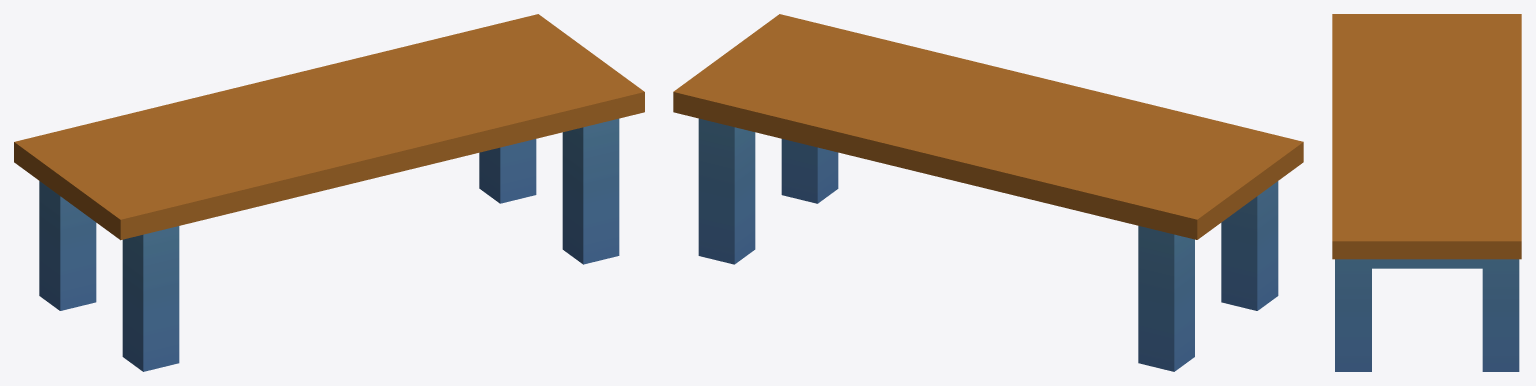
Rendered from Bench_1_B_8.fbx.
The picture shows the model from 3 angles, left to right: view 1: azimuth 30°, elevation 25°; view 2: azimuth 150°, elevation 25°; view 3: azimuth 270°, elevation 25°; orthographic projection. The views are drawn at different scales.
Visible parts, largest first — view 1: Bench_1_B_8; view 2: Bench_1_B_8; view 3: Bench_1_B_8.
Boxes of the visible parts, left/top/right/bottom form: Bench_1_B_8: left=14, top=14, right=644, bottom=371; Bench_1_B_8: left=673, top=14, right=1303, bottom=371; Bench_1_B_8: left=1332, top=14, right=1521, bottom=371.
Size of the model in its own units: 116 by 33.54 by 40.68.
